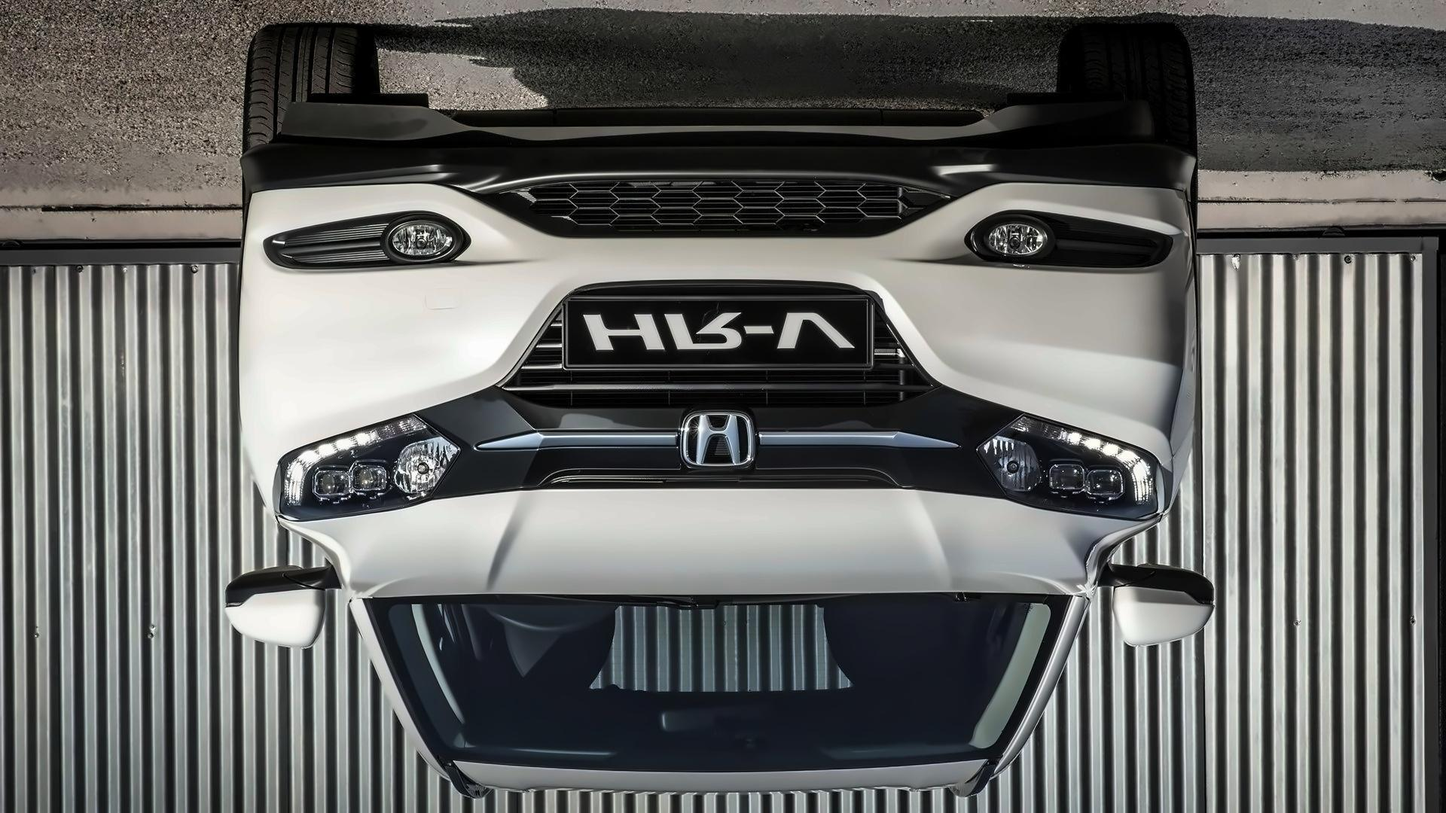Car hood: (278, 483, 1154, 604)
Front bumper: (219, 80, 1205, 476)
Headlight - -L-: (272, 409, 473, 525)
Headlight - -R-: (970, 413, 1170, 521)
Side mirror - -L-: (221, 563, 344, 655)
Side mirror - -R-: (1098, 558, 1221, 649)
